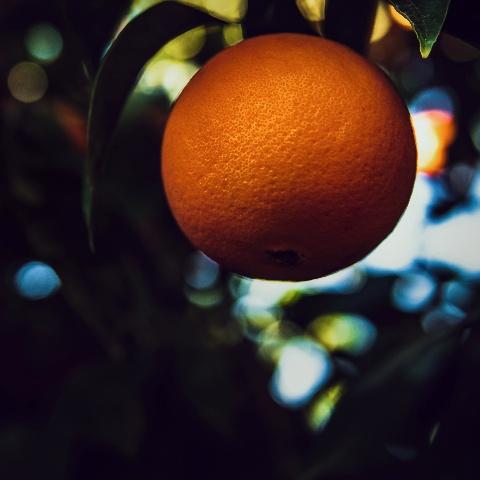orange: (135, 29, 470, 291)
